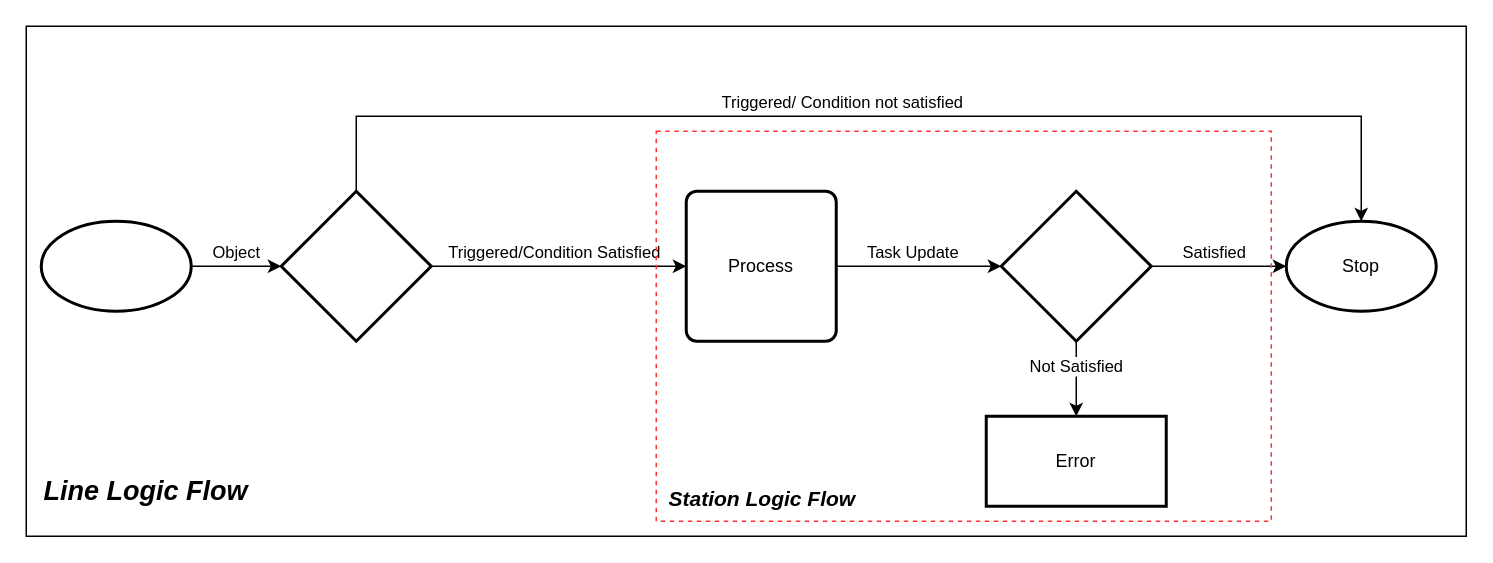
The diagram is 1493 pixels wide and 563 high, and some of its shapes have lost their labels. The shapes that lost their labels are listed below. From the top down, each one's box as (x1, y1, x2, y2) in pixels, then its label:
(39, 219, 192, 312): Start
(279, 189, 432, 342): Sensor
(999, 189, 1152, 342): Conditions
